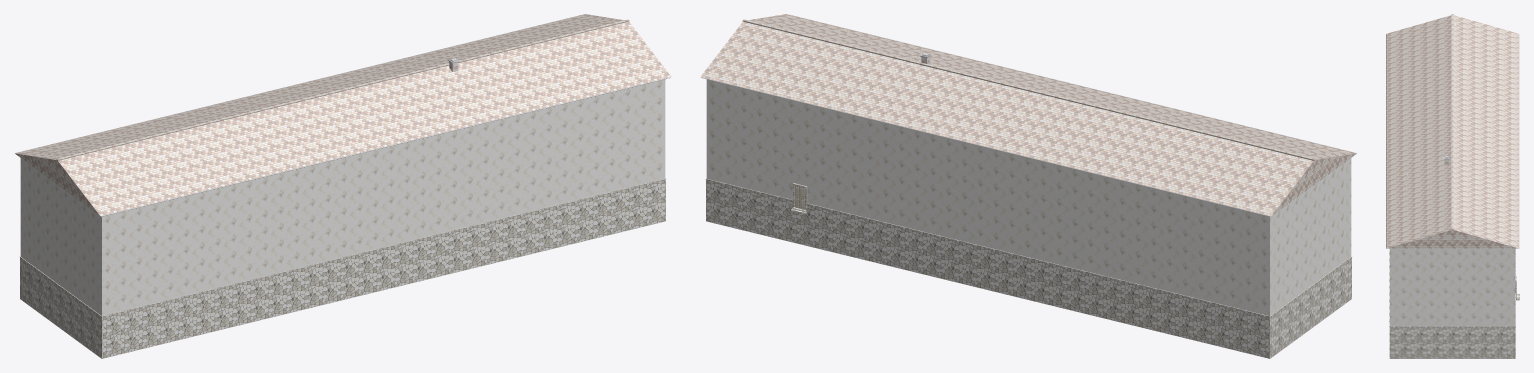
3 views of the same model, side by side, from view 1: azimuth 30°, elevation 25°; view 2: azimuth 150°, elevation 25°; view 3: azimuth 270°, elevation 25° (orthographic). The views are drawn at different scales.
Parts seen in each view (by area): view 1: b1085383208; view 2: b1085383208; view 3: b1085383208.
Part boxes in pixels (x1,y1,x2,y2): b1085383208: (15, 14, 671, 358); b1085383208: (700, 14, 1356, 358); b1085383208: (1386, 14, 1519, 358).
Size of the model in its own units: 50.76 by 15.03 by 13.36.
14 materials, 14 textured.
